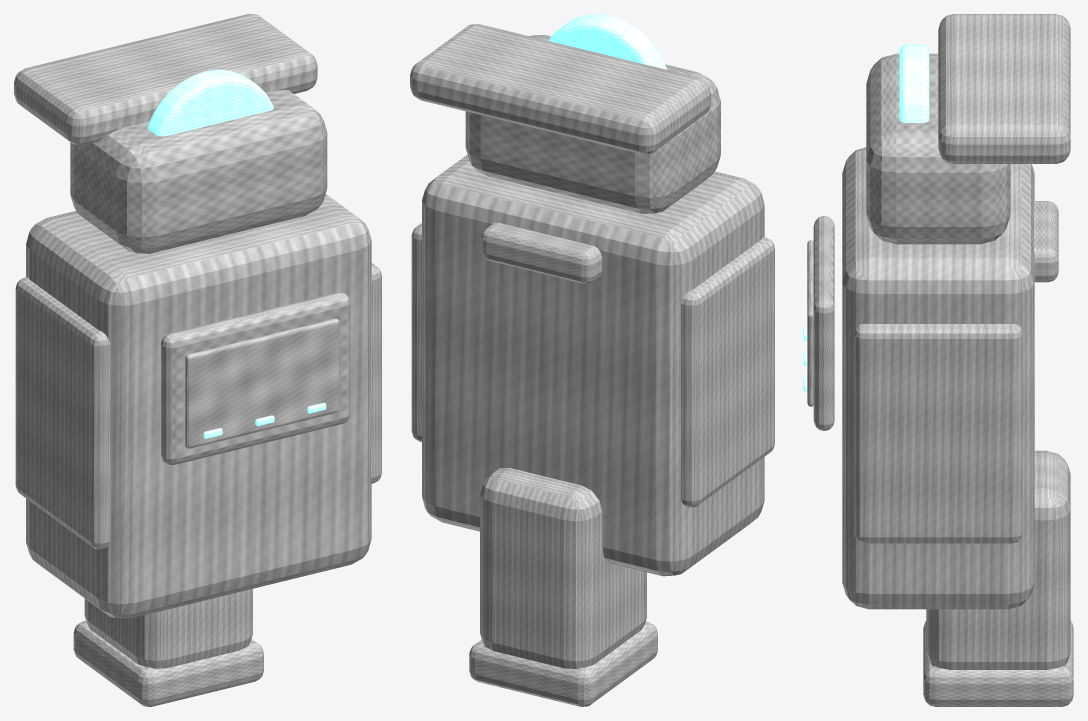
Rendered from object_scanner_variant_d.glb.
3 renders of one model, left to right at view 1: azimuth 30°, elevation 25°; view 2: azimuth 150°, elevation 25°; view 3: azimuth 270°, elevation 25°, orthographic.
Parts seen in each view (by area): view 1: Main housing.003, Scanner head housing.002, Side armor rail, Protective sensor hood, Display glass.003, Display bezel.003, Pistol grip.003, Grip end cap.003, Directional sensor, Side armor rail.001; view 2: Main housing.003, Pistol grip.003, Protective sensor hood, Side armor rail, Scanner head housing.002, Grip end cap.003, Top carry loop, Directional sensor, Side armor rail.001; view 3: Main housing.003, Side armor rail.001, Protective sensor hood, Scanner head housing.002, Pistol grip.003, Grip end cap.003, Display bezel.003, Directional sensor, Top carry loop, Display glass.003.
Part boxes in pixels (box(x1,y1,x2,y2)): Main housing.003: box(26, 194, 371, 618); Scanner head housing.002: box(70, 90, 327, 253); Side armor rail: box(15, 277, 110, 549); Protective sensor hood: box(14, 14, 317, 145); Display glass.003: box(185, 318, 339, 448); Display bezel.003: box(161, 292, 350, 464); Pistol grip.003: box(84, 588, 252, 668); Grip end cap.003: box(73, 621, 263, 706); Directional sensor: box(147, 69, 273, 136); Side armor rail.001: box(371, 263, 381, 483); Main housing.003: box(422, 154, 764, 576); Pistol grip.003: box(480, 468, 646, 668); Protective sensor hood: box(410, 24, 711, 154); Side armor rail: box(681, 237, 774, 507); Scanner head housing.002: box(465, 35, 720, 213); Grip end cap.003: box(469, 621, 657, 706); Top carry loop: box(481, 222, 602, 283); Directional sensor: box(548, 14, 667, 69); Side armor rail.001: box(411, 223, 422, 441); Main housing.003: box(842, 147, 1034, 609); Side armor rail.001: box(854, 323, 1022, 543); Protective sensor hood: box(938, 14, 1070, 163); Scanner head housing.002: box(866, 53, 1010, 244); Pistol grip.003: box(926, 450, 1070, 669); Grip end cap.003: box(923, 620, 1073, 706); Display bezel.003: box(813, 216, 834, 430); Directional sensor: box(899, 44, 929, 122); Top carry loop: box(1034, 201, 1058, 282); Display glass.003: box(807, 240, 813, 406).
Size of what is drawn, in the model's own units: 0.56 by 1.15 by 0.45.
Materials: 6 (6 with a texture image).
